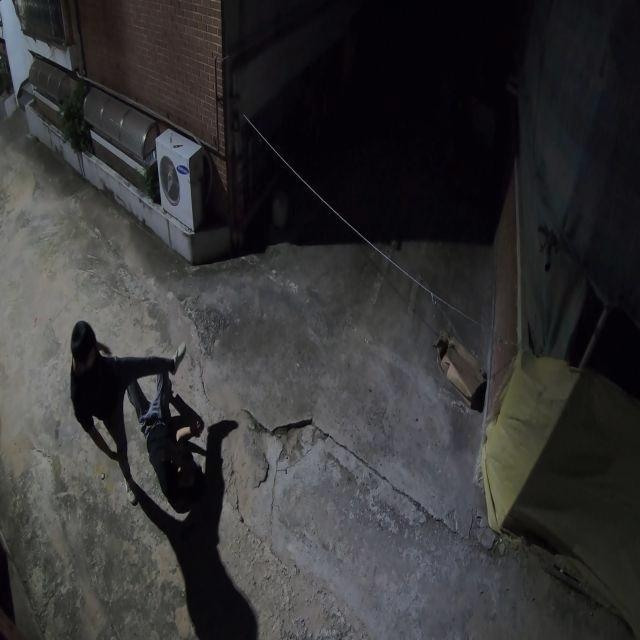fight: (62, 313, 216, 518)
